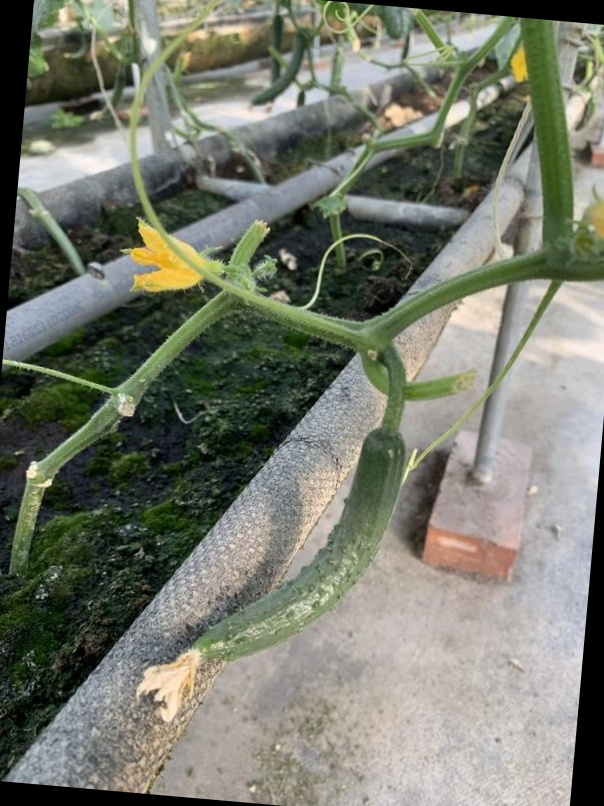bud: (125, 215, 225, 292)
growth: (183, 429, 406, 673)
